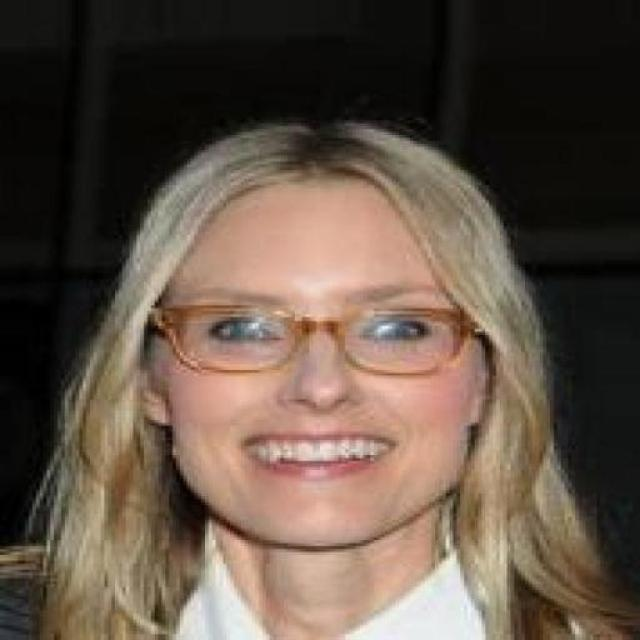bareface: (150, 146, 478, 554)
